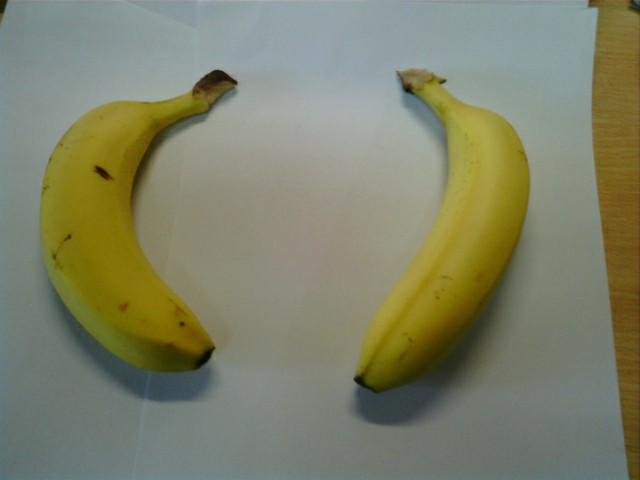fresh_banana: (355, 65, 531, 401)
normal_banana: (39, 76, 215, 367)
